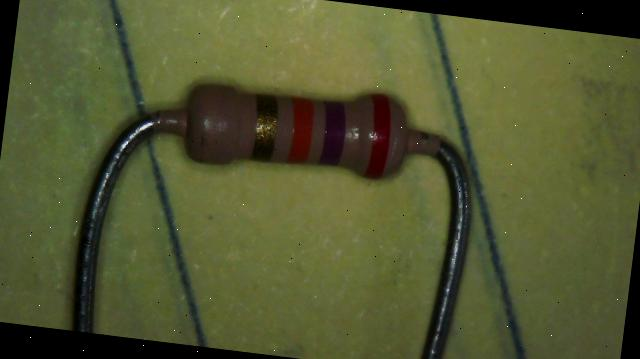gold: (251, 94, 281, 161)
orange: (286, 96, 317, 162)
red: (368, 94, 394, 175)
resistor: (154, 54, 428, 200)
violet: (320, 102, 350, 164)
